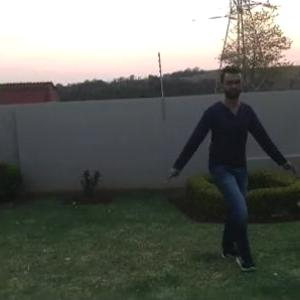land: (163, 63, 281, 261)
